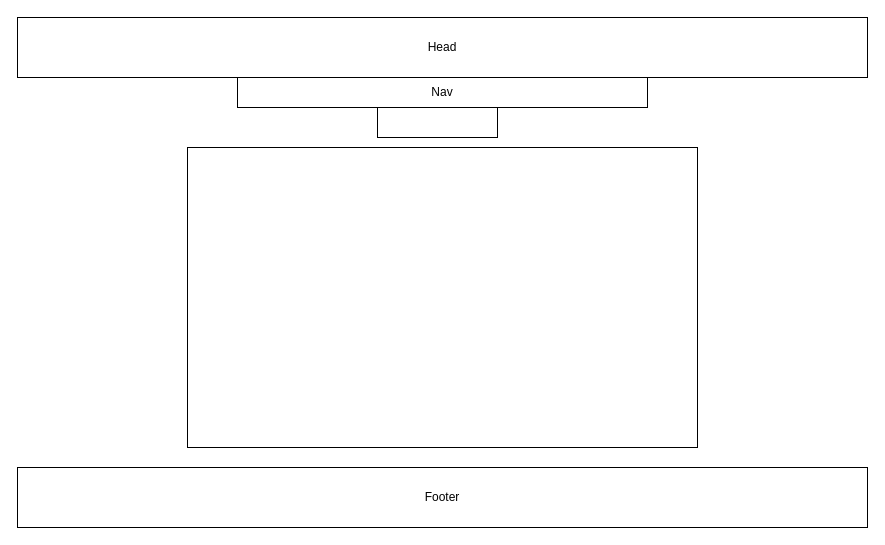
Some shapes in this 885 by 545 pixel diagram are drawn without their labels. The shapes that lost their labels are listed below. From the top down, each one's centre as x and y in pixels, then its label:
the point at 437,122: Title of page
the point at 442,297: Content
